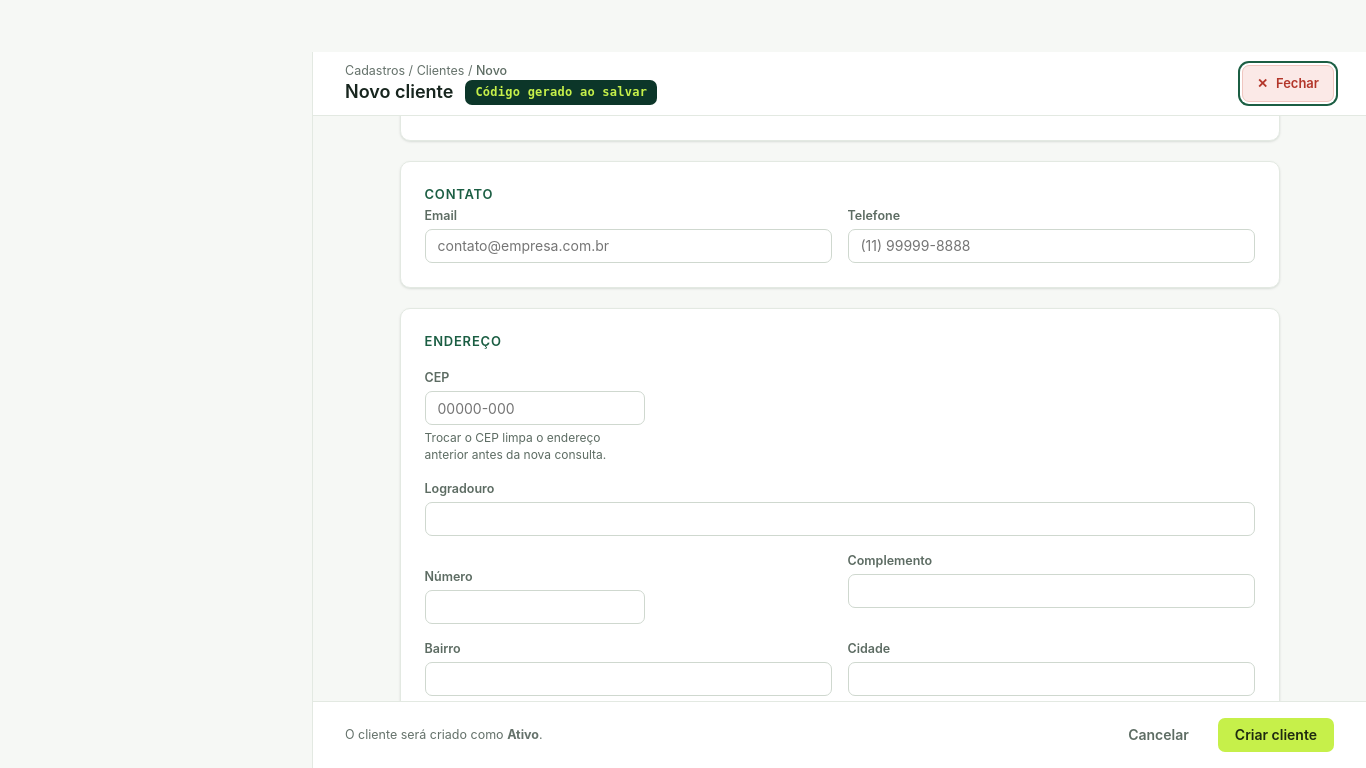
Test: Cliente — o endereço pertence ao CEP › campo que a resposta não traz fica vazio, não herda o do CEP anterior
(page scrolled)
In the field labelled "CEP": [534, 408] box [424,391,644,425], type "04816100"
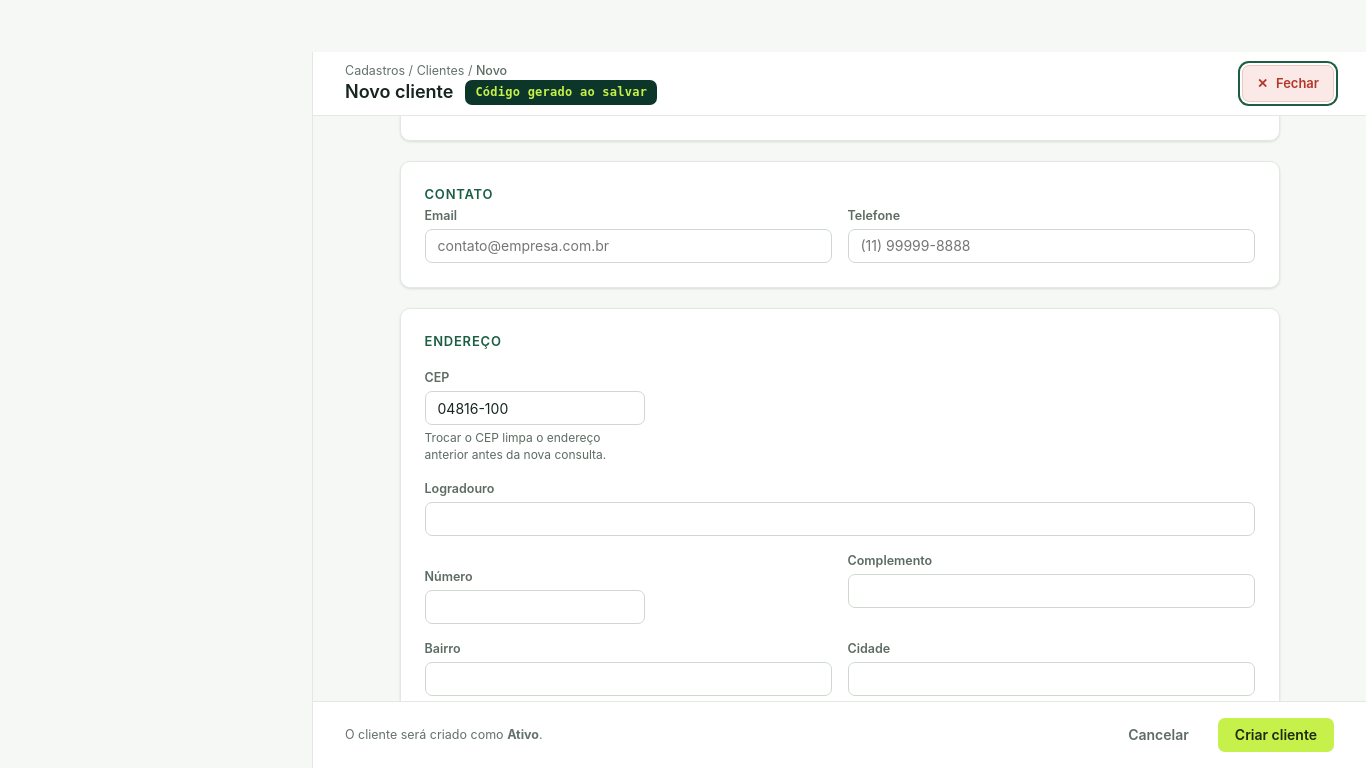
Leave the field labelled "CEP", box [424,391,644,425]
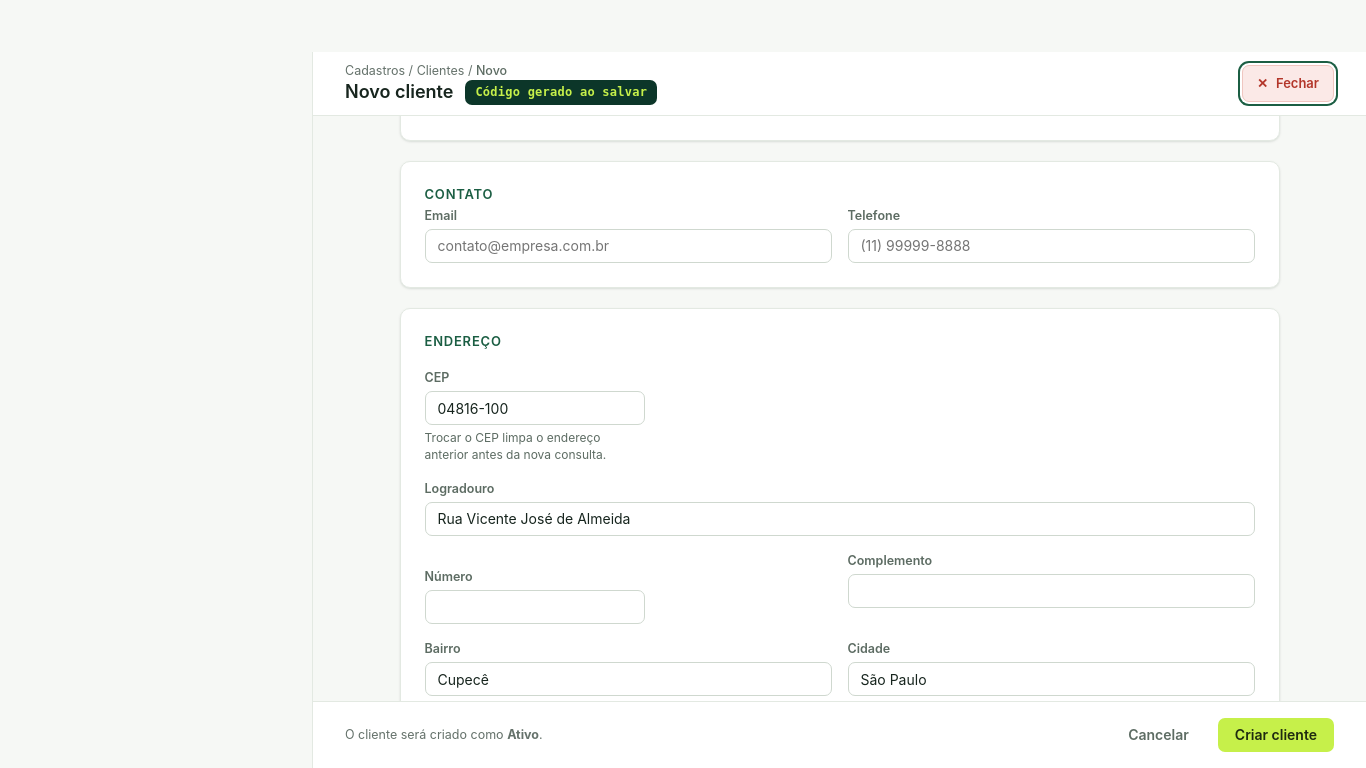
Expected: the field labelled "Cidade" holds "São Paulo", [848,662,1254,696]
Replace the text in the field labelled "CEP" with "13010000": [534, 408] box [424,391,644,425]
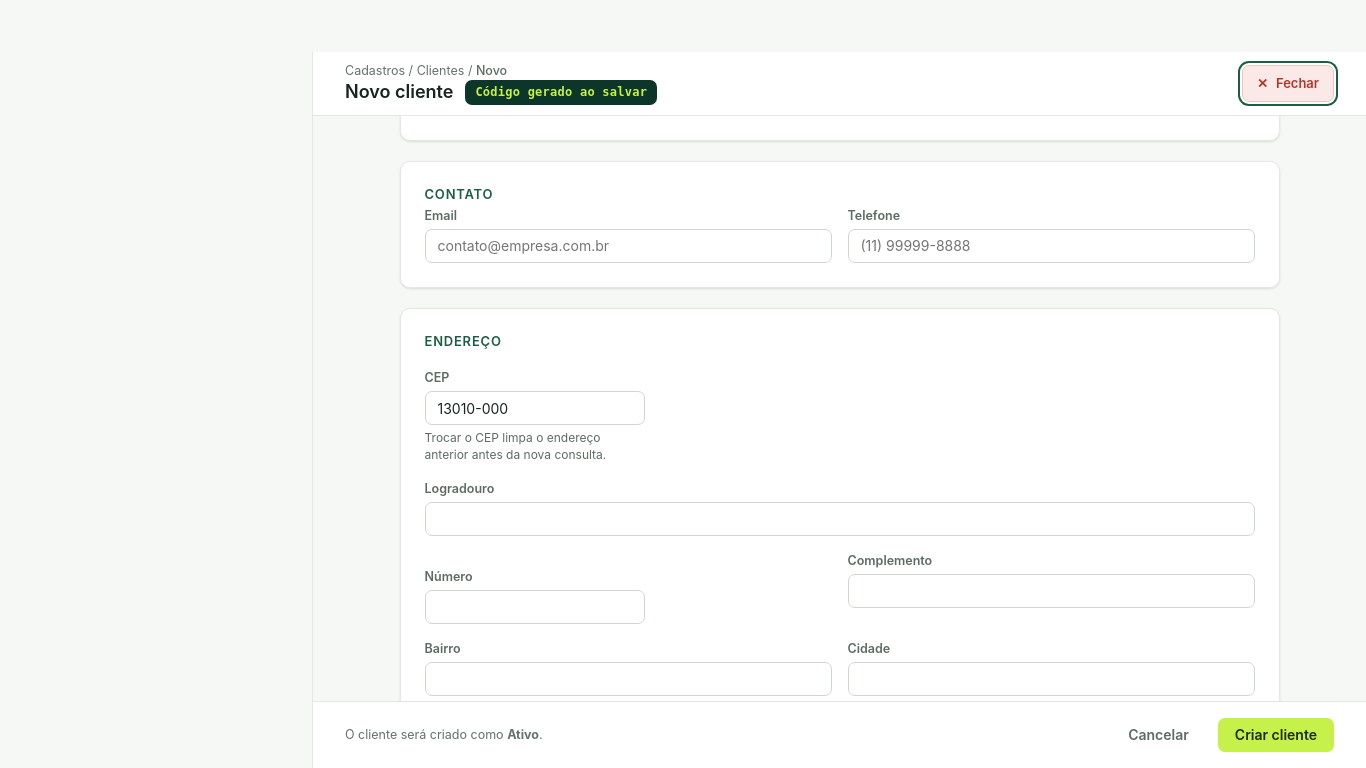
Leave the field labelled "CEP", box [424,391,644,425]
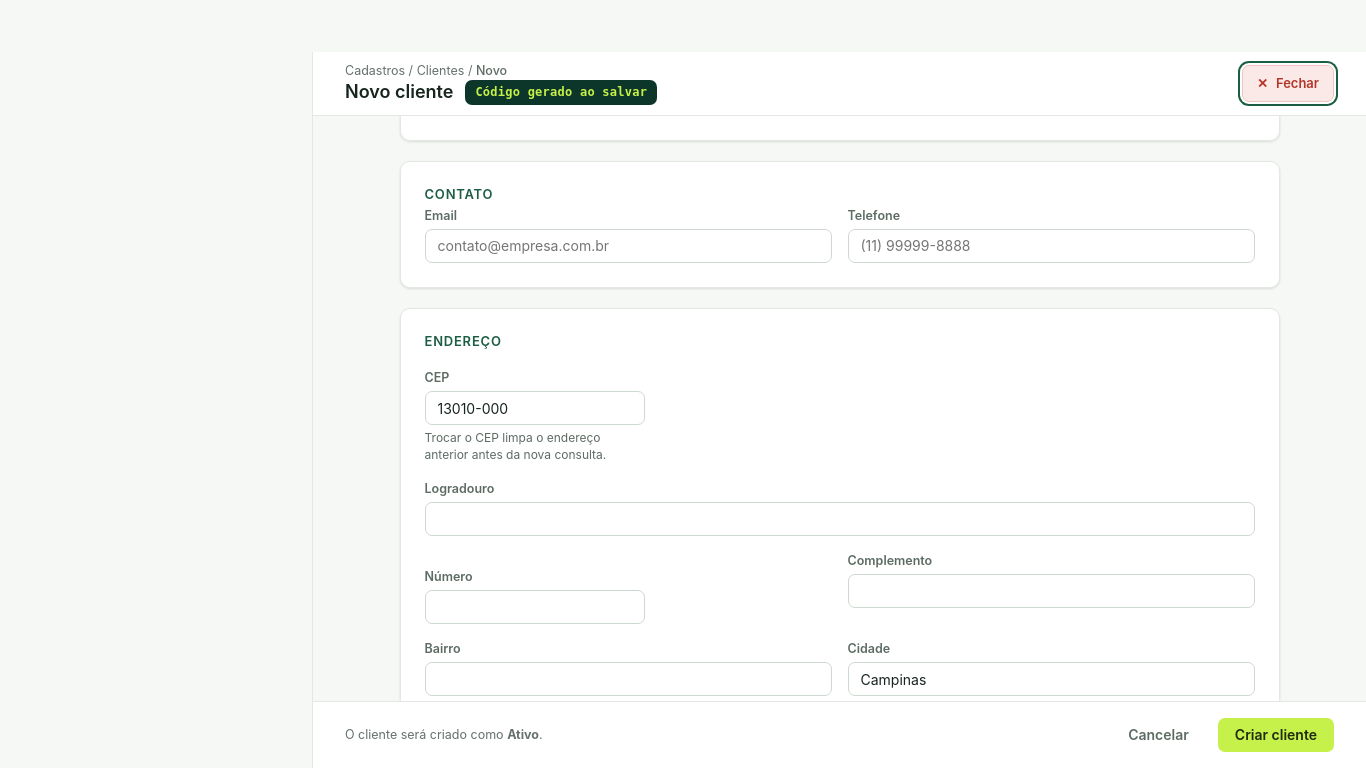
Expected: the field labelled "Cidade" holds "Campinas", [848,662,1254,696]
